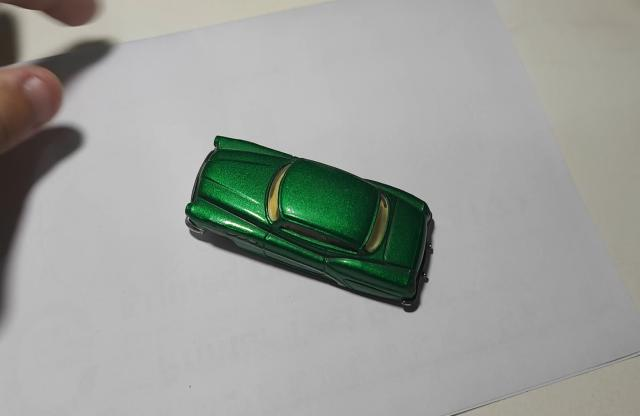06_MASERATI: (185, 136, 433, 314)
